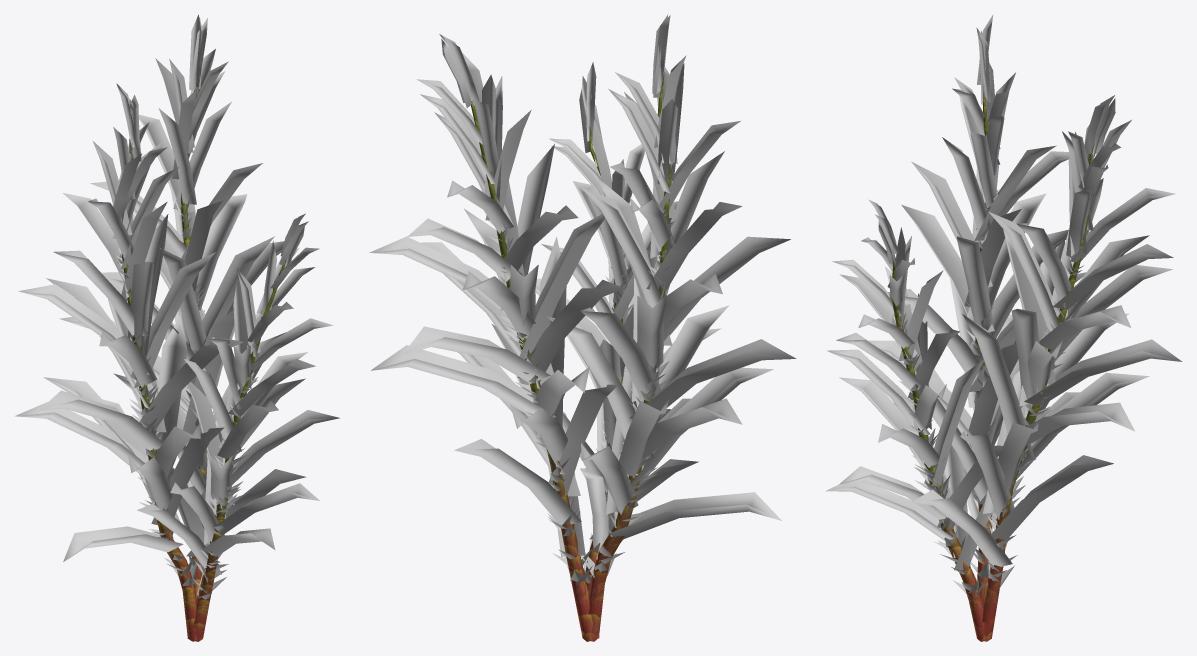
Rendered from Plant5_2_L2.fbx.
3 renders of one model, left to right at view 1: azimuth 30°, elevation 25°; view 2: azimuth 150°, elevation 25°; view 3: azimuth 270°, elevation 25°, orthographic. The views are drawn at different scales.
Visible parts, largest first — view 1: polySurface19; view 2: polySurface19; view 3: polySurface19.
Part boxes in pixels (x1,y1,x2,y2): polySurface19: (15,14,339,641); polySurface19: (369,14,796,641); polySurface19: (825,14,1182,641).
Size of the model in its own units: 319 by 565 by 312.
